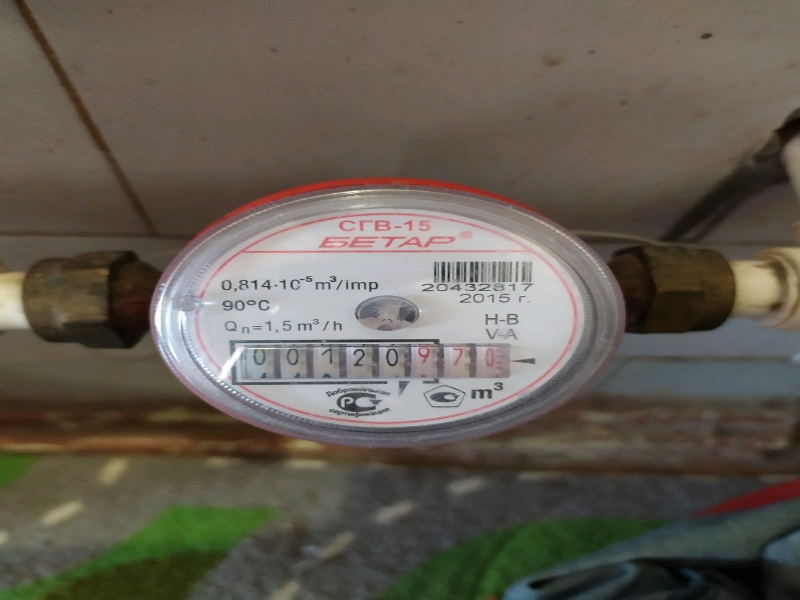meter: (220, 335, 512, 375)
